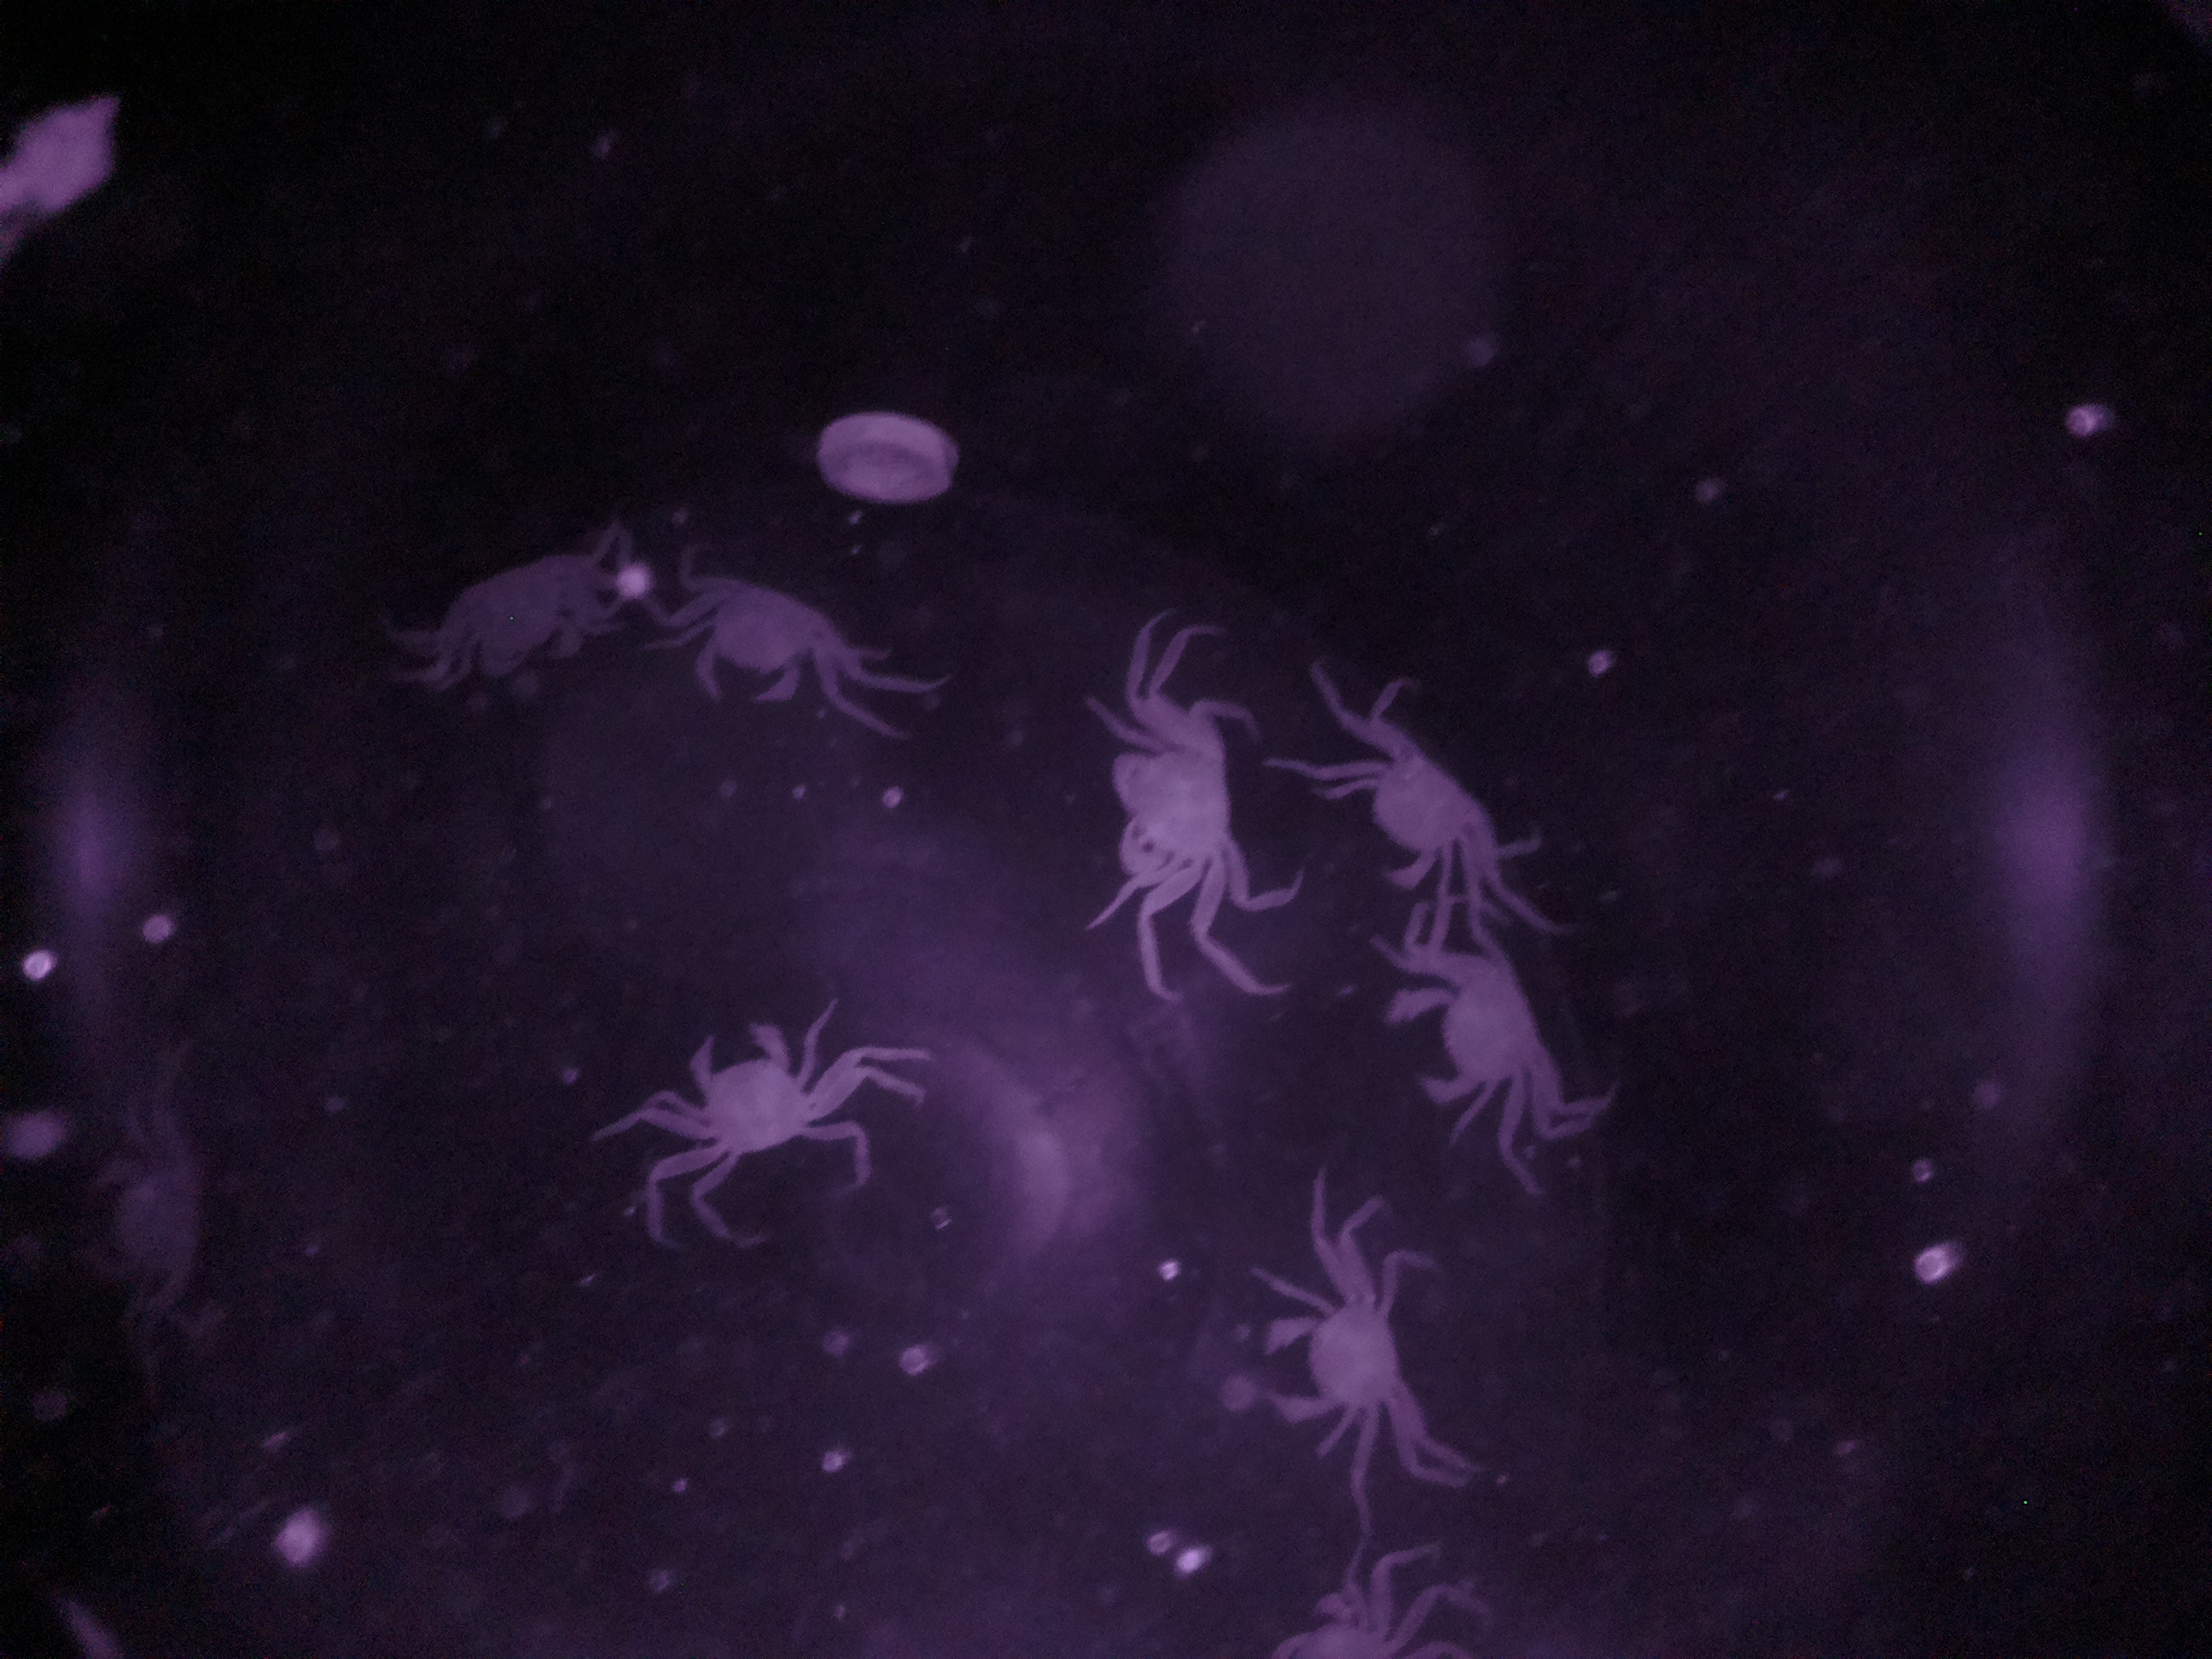Crab: (1362, 918, 1575, 1164), (1085, 669, 1266, 955), (1289, 711, 1529, 910), (658, 538, 880, 741), (632, 1006, 881, 1171), (1242, 1258, 1433, 1457)
